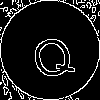Q: (25, 25, 78, 84)
